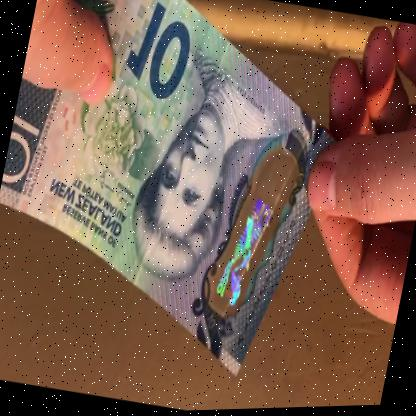10B: (211, 194, 278, 315)
